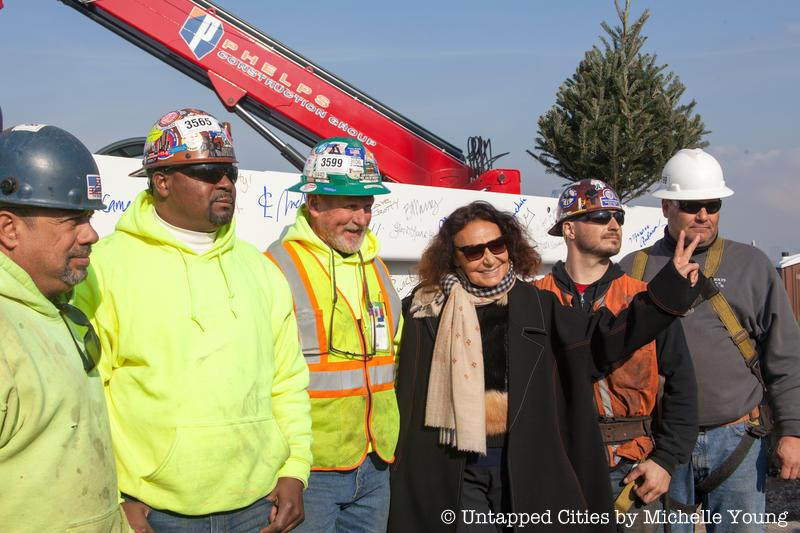helmet: (1, 124, 107, 214), (132, 109, 235, 175), (289, 137, 396, 196), (658, 151, 738, 205)
